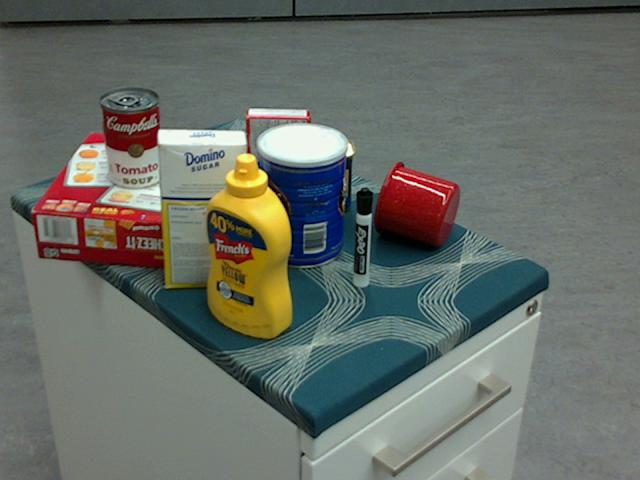cracker_box: (31, 132, 210, 270)
gelatin_box: (245, 108, 309, 162)
large_marker: (354, 187, 372, 287)
master_chef_can: (256, 122, 346, 268)
mug: (373, 160, 459, 245)
mustard_bottle: (206, 153, 291, 339)
potted_meat_can: (272, 135, 354, 214)
sugar_box: (156, 128, 246, 288)
tomato_soup_can: (99, 88, 163, 189)
tuna_fish_can: (192, 145, 240, 216)
